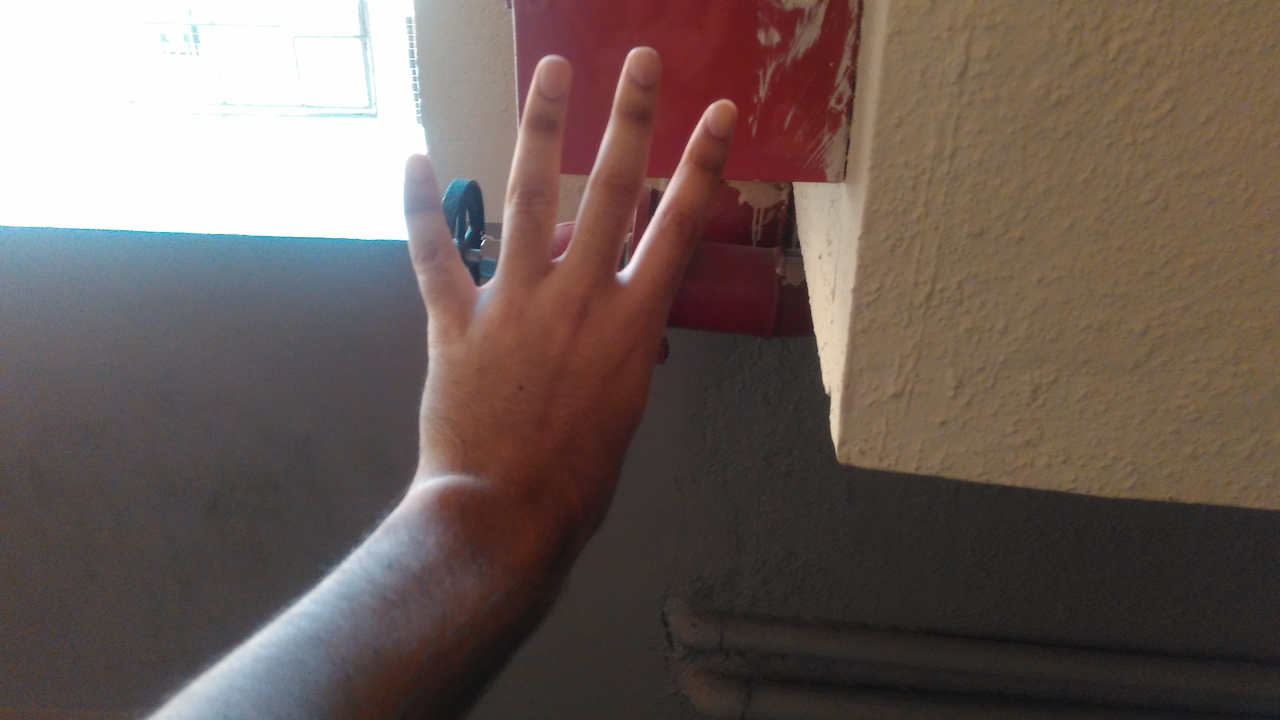fingertip: (686, 90, 746, 146), (522, 44, 576, 94), (612, 40, 666, 90), (386, 142, 438, 192)
